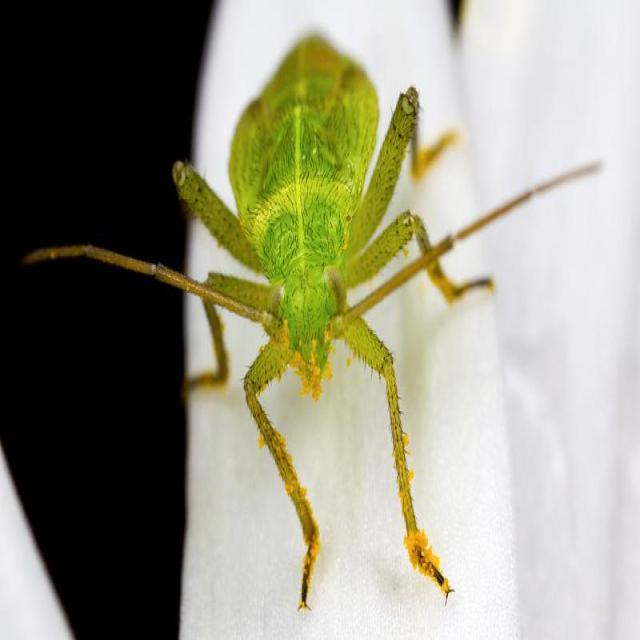Aphids: (27, 38, 616, 613)
